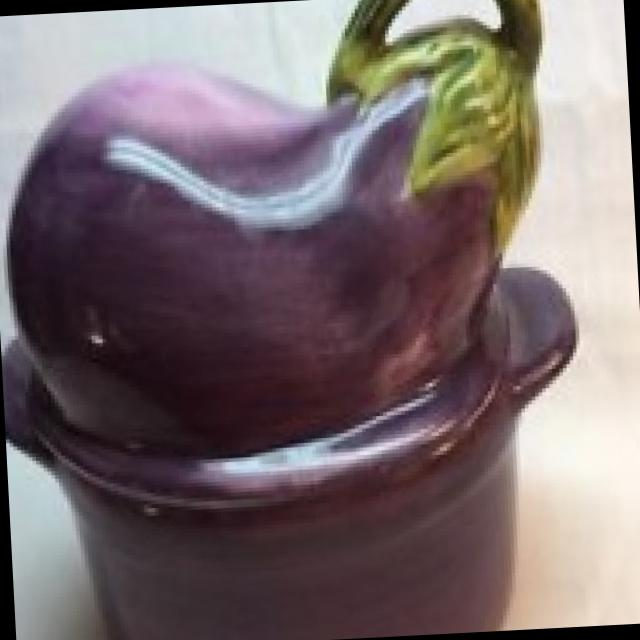eggplant: (0, 35, 541, 474)
